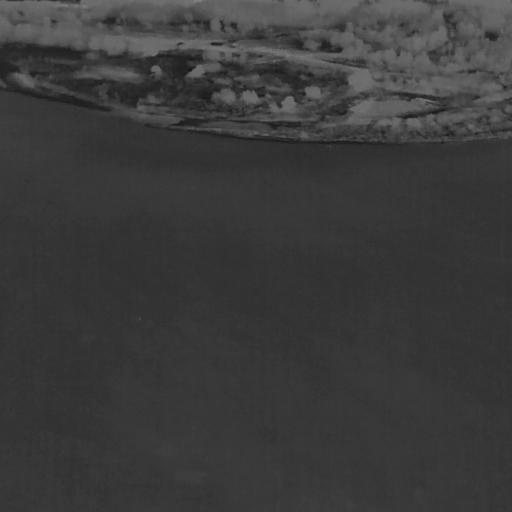uav: (136, 315, 144, 322)
